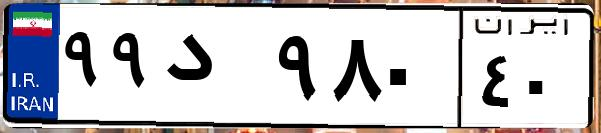0: (385, 28, 445, 110), (525, 38, 570, 115)
4: (475, 38, 525, 113)
8: (330, 28, 385, 110)
9: (270, 28, 330, 110), (57, 26, 110, 100), (110, 28, 158, 98)
د: (158, 20, 270, 120)
